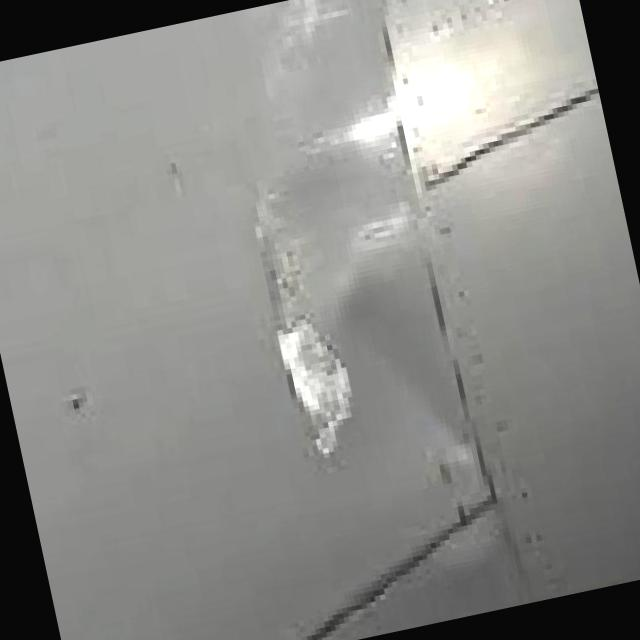dent: (324, 233, 481, 504), (270, 130, 418, 314), (260, 0, 404, 160)
